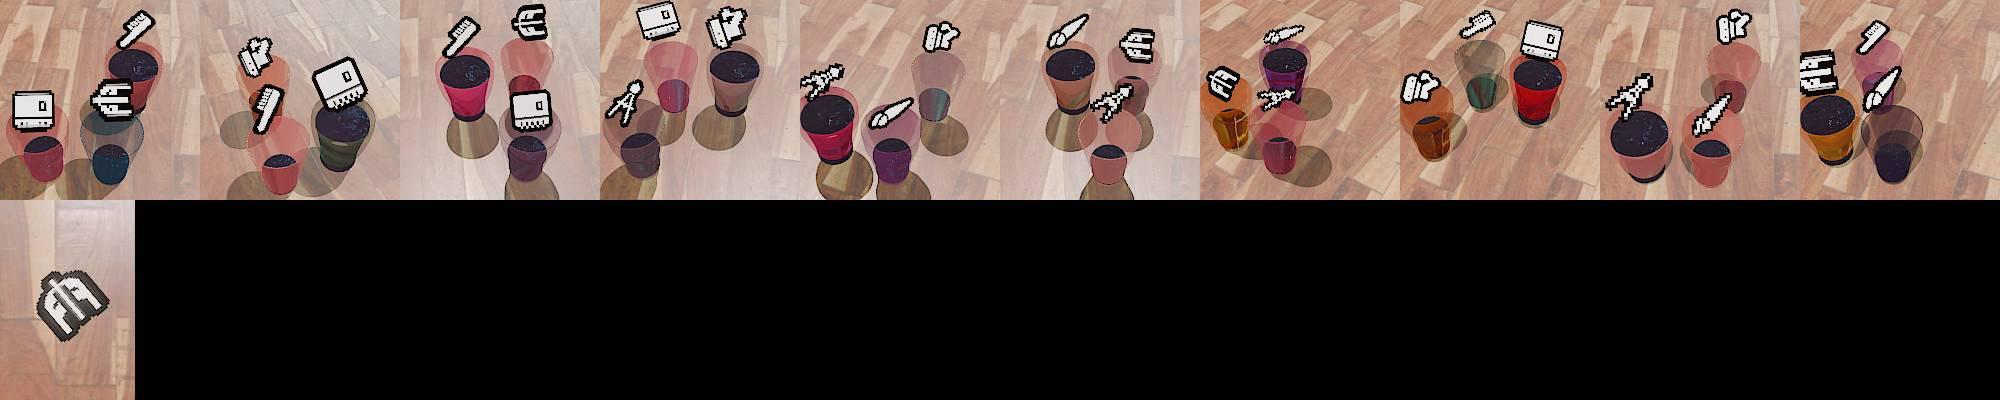icon: (34, 268, 111, 343), (311, 56, 367, 112), (1605, 70, 1656, 118), (89, 78, 139, 122), (1861, 64, 1902, 115), (1690, 90, 1733, 138), (705, 5, 749, 51), (1797, 48, 1839, 96), (250, 83, 287, 136), (605, 78, 645, 126), (634, 1, 681, 42), (509, 89, 552, 132), (1519, 19, 1564, 61), (1088, 83, 1134, 124), (798, 61, 846, 101), (441, 14, 481, 61), (11, 90, 56, 131), (1046, 13, 1091, 51), (869, 94, 916, 130), (116, 10, 156, 51), (237, 36, 274, 79), (510, 3, 548, 42), (1714, 9, 1753, 45), (1120, 27, 1156, 64), (922, 19, 960, 54), (1402, 70, 1440, 104), (1856, 19, 1890, 55), (1458, 9, 1496, 39), (1207, 65, 1239, 101), (1255, 85, 1298, 111), (1263, 23, 1305, 47)
